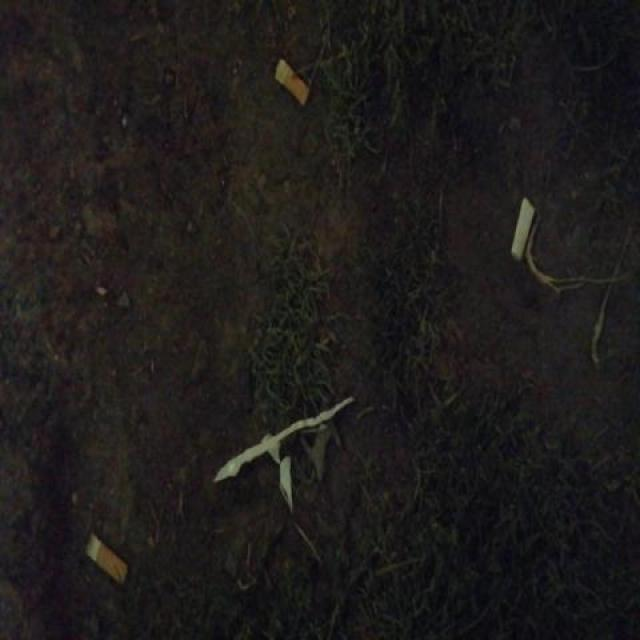non-organic waste: (81, 527, 131, 592), (506, 193, 538, 266), (272, 53, 312, 111)
